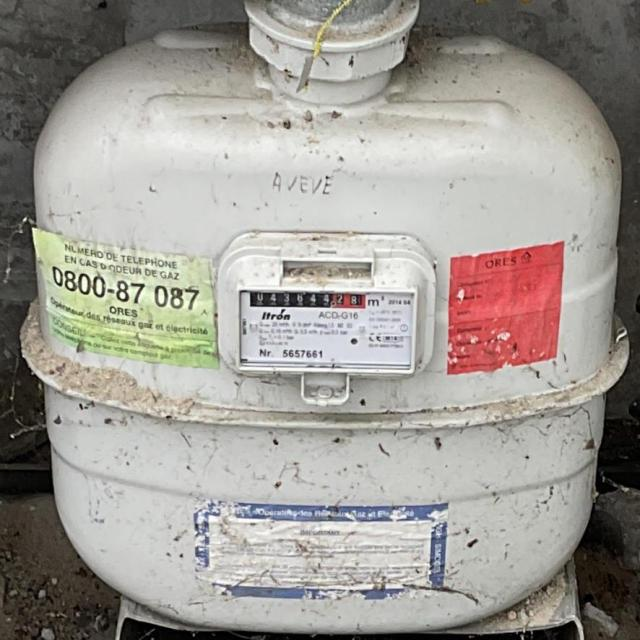gaz_meter: (237, 276, 420, 377)
indication: (249, 286, 368, 311)
